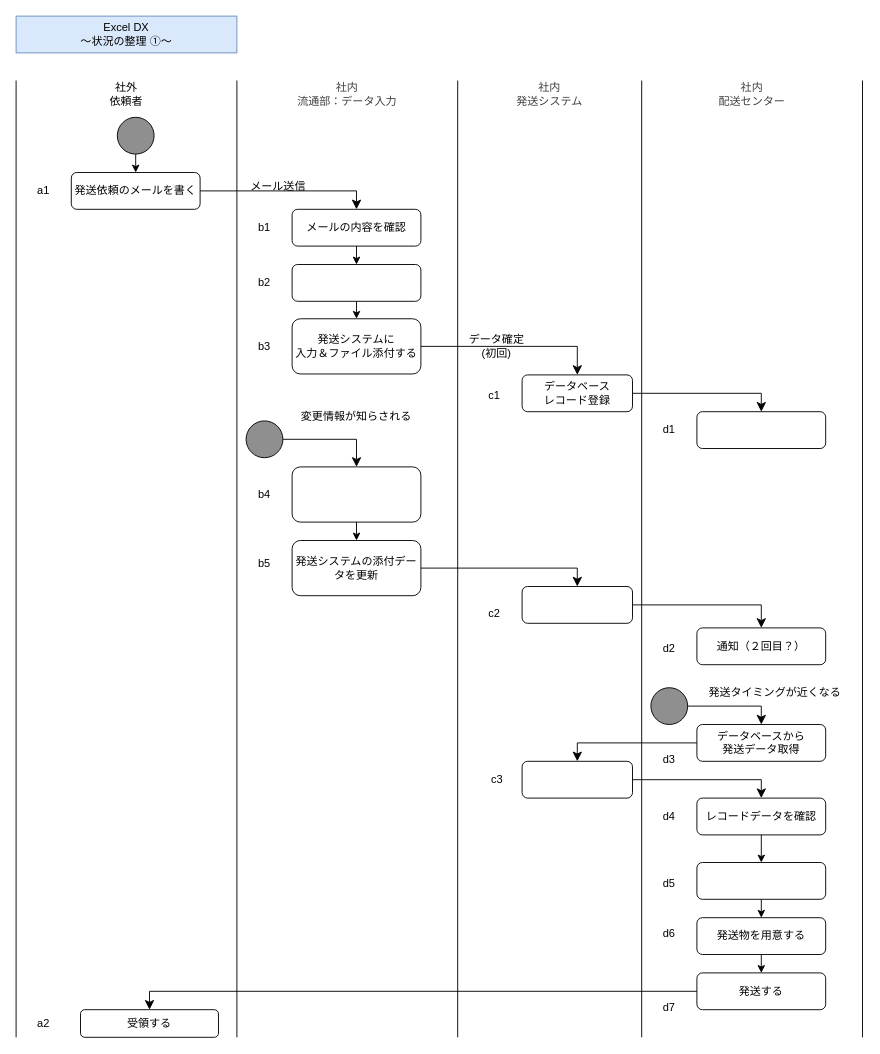
Image size: 880x1054. Some labels were removed from this diagram. Each missing label, with the centre of its shape:
"Excelにデータ入力" goes at pixel 356 282.
"エクセルデータを確認" goes at pixel 761 880.
"データベース レコード更新" goes at pixel 576 604.
"レコード送信" goes at pixel 576 779.
"発送に関する情報を変更する＠Excel" goes at pixel 356 494.
"通知（初回？）" goes at pixel 761 429.
